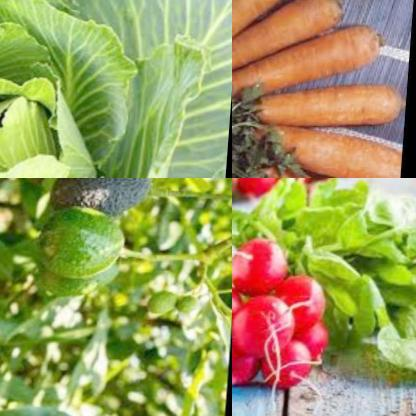avocado: (29, 206, 136, 299), (54, 178, 158, 217)
cabbage: (0, 0, 183, 178)
carrot: (232, 29, 393, 105), (232, 0, 348, 77), (241, 125, 407, 178), (251, 78, 410, 133), (232, 0, 302, 64), (253, 156, 405, 178)
rediska: (233, 289, 299, 357), (232, 178, 376, 206), (232, 233, 288, 292), (264, 336, 324, 390), (276, 274, 334, 329), (232, 334, 273, 389), (294, 314, 334, 366), (232, 279, 251, 341)
